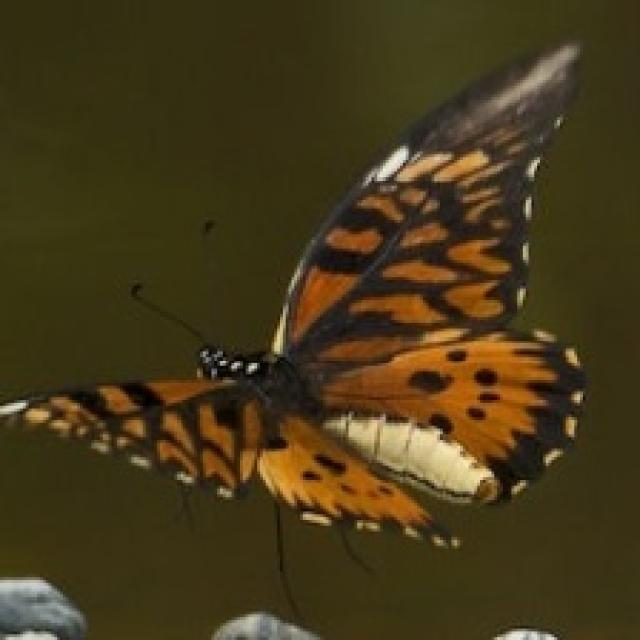butterfly: (0, 37, 589, 623)
